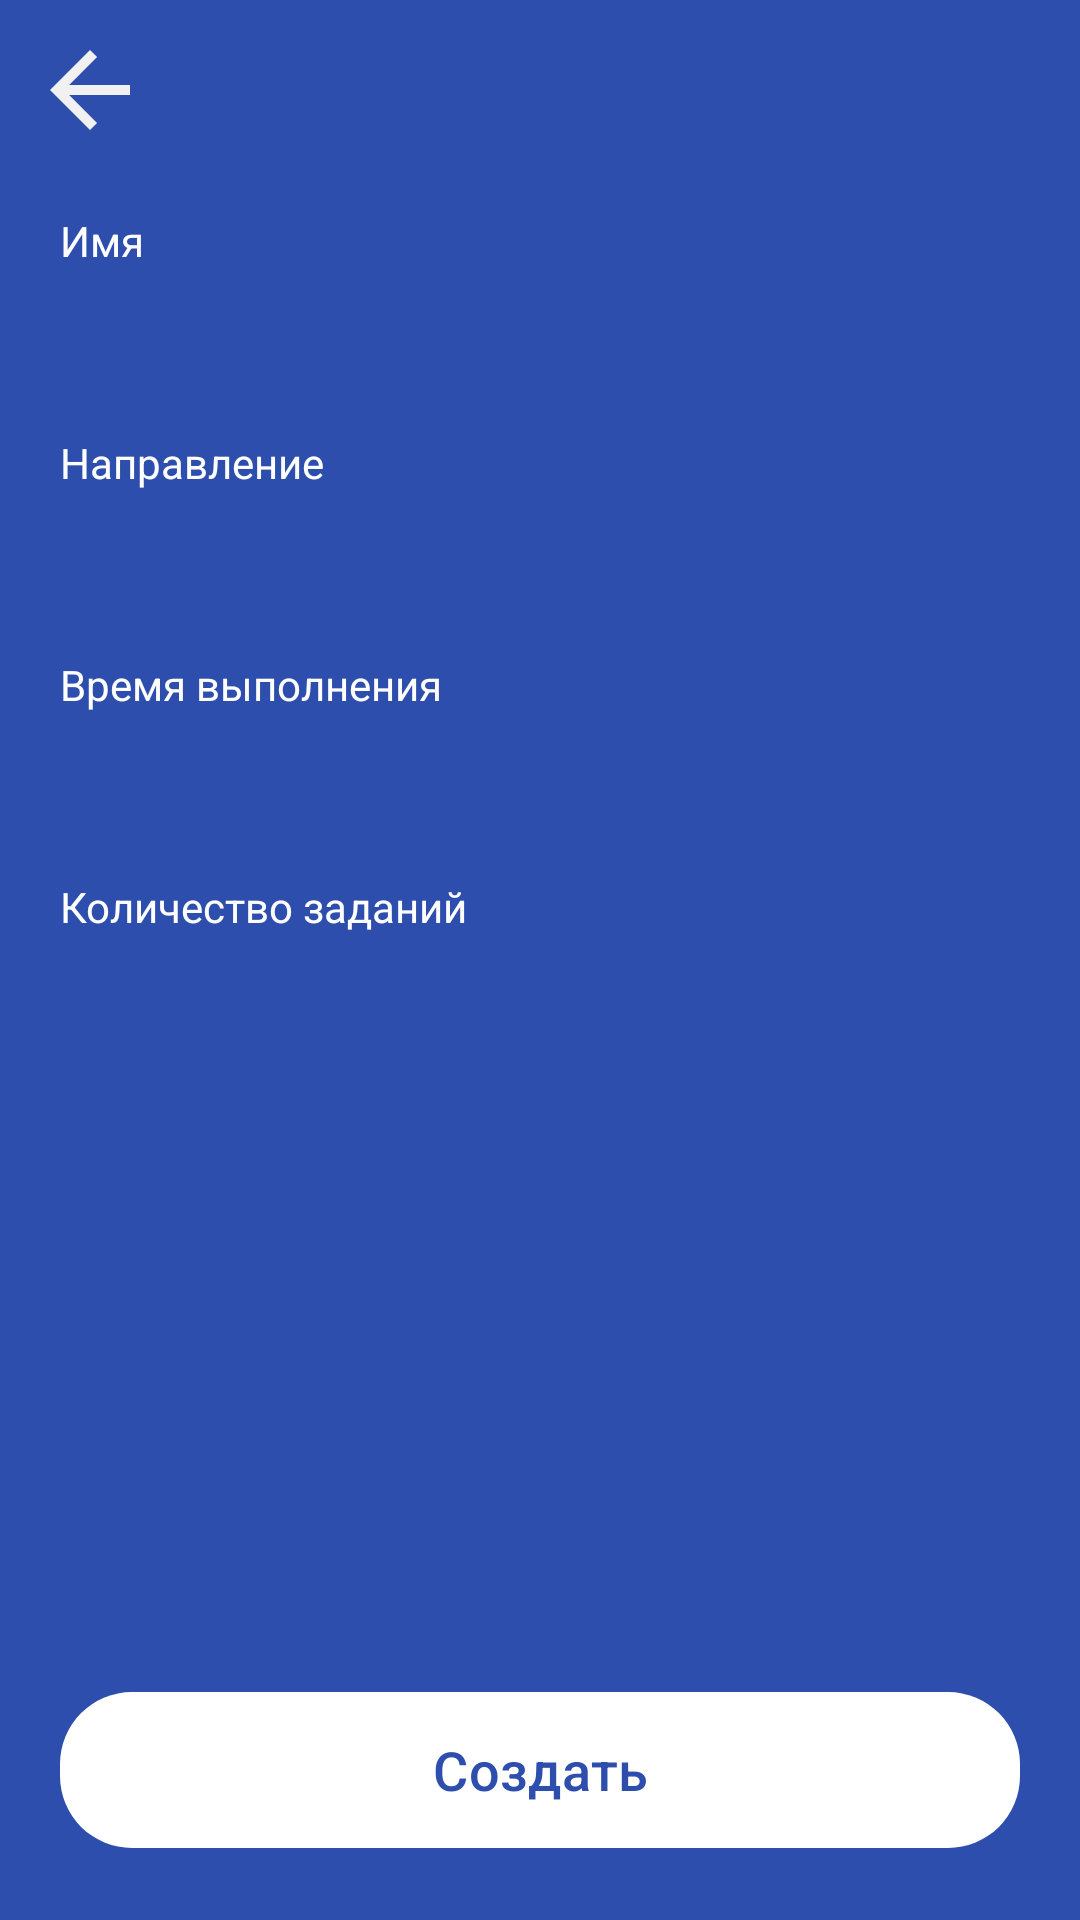

Point at icon controls on the screen. Image size 1080w x 1920h, points as (x=x, y=y).
back arrow: (x=90, y=90)
